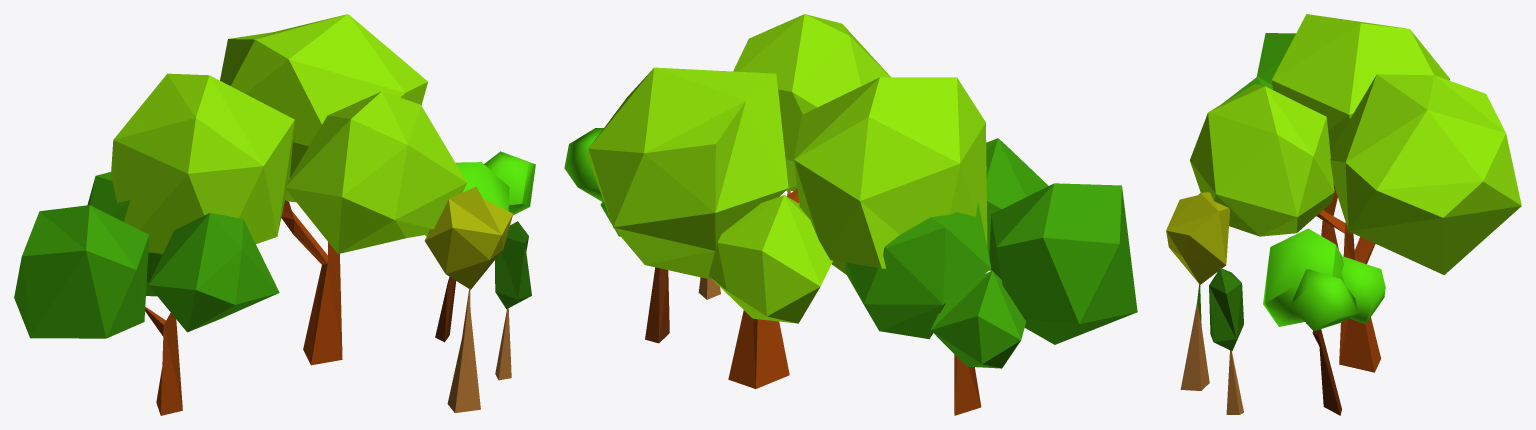
File: treesLeft.gltf
3 renders of one model, left to right at view 1: azimuth 30°, elevation 25°; view 2: azimuth 150°, elevation 25°; view 3: azimuth 270°, elevation 25°, orthographic. The views are drawn at different scales.
Visible parts, largest first — view 1: TreesLeft; view 2: TreesLeft; view 3: TreesLeft.
Part boxes in pixels (x1,y1,x2,y2): TreesLeft: (14, 14, 535, 415); TreesLeft: (564, 14, 1137, 415); TreesLeft: (1166, 14, 1521, 415).
Bounding box in the file's own units: 64.5 × 36.75 × 41.07.
